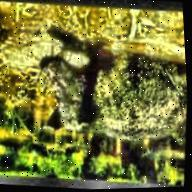boar: (34, 42, 190, 151)
